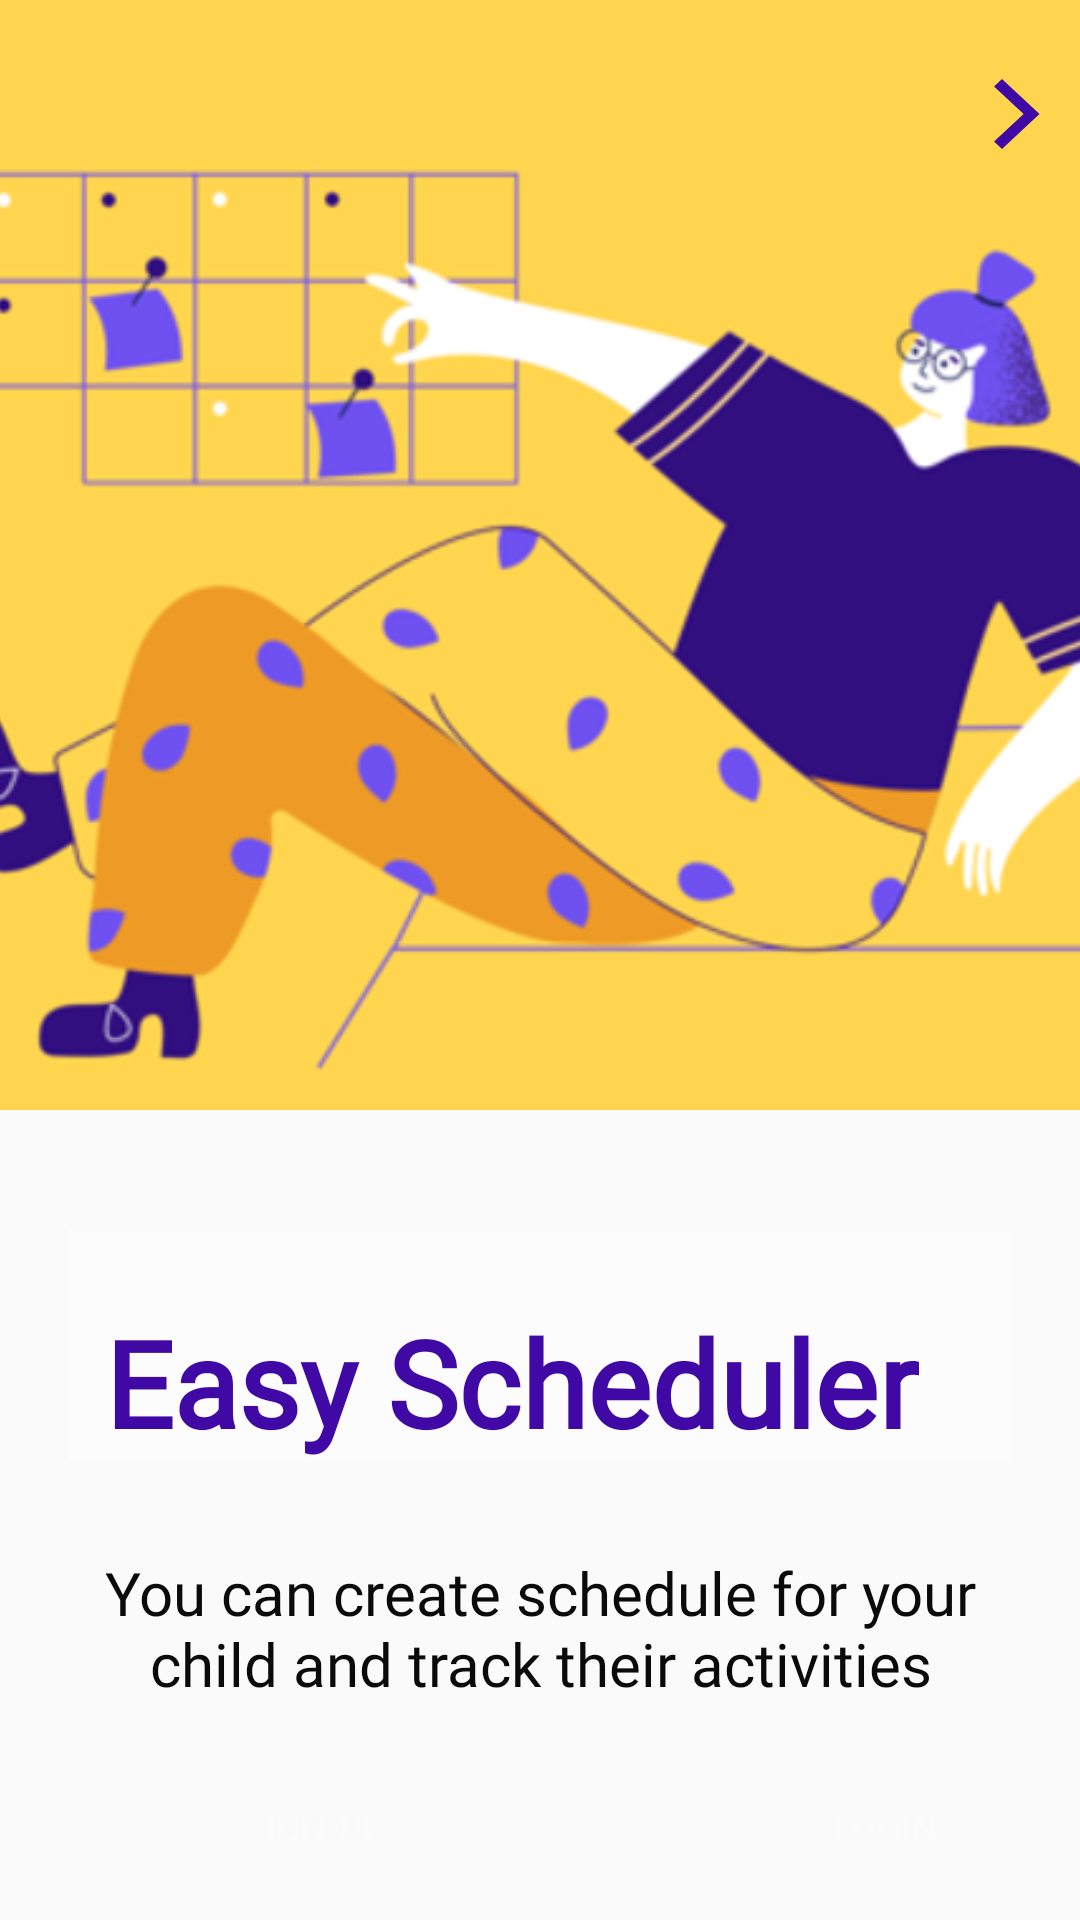

Icon bounding boxes for this 1080×1920 phone screenshot, format (x1, y1, x2, y2):
arrow forward: (994, 79, 1039, 149)
